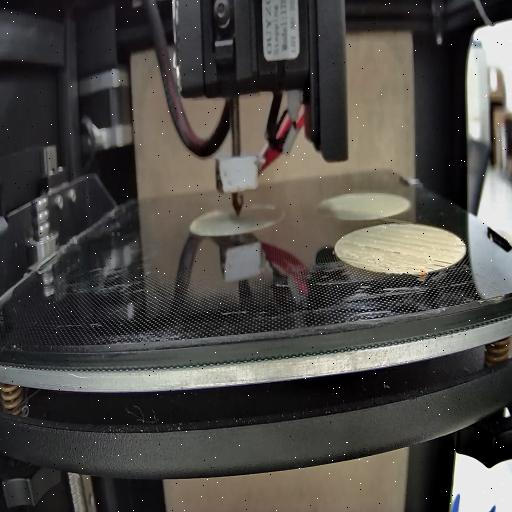under_extrusion: (360, 242, 400, 258), (421, 258, 451, 272), (376, 260, 394, 272), (400, 262, 418, 274), (340, 256, 360, 264), (452, 243, 466, 249)
